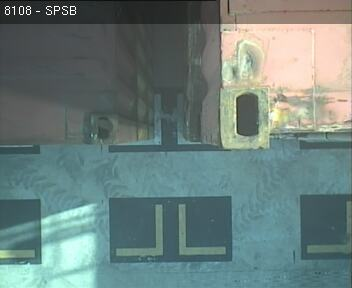groundmarker_1: (114, 93, 224, 145), (116, 203, 225, 255)
